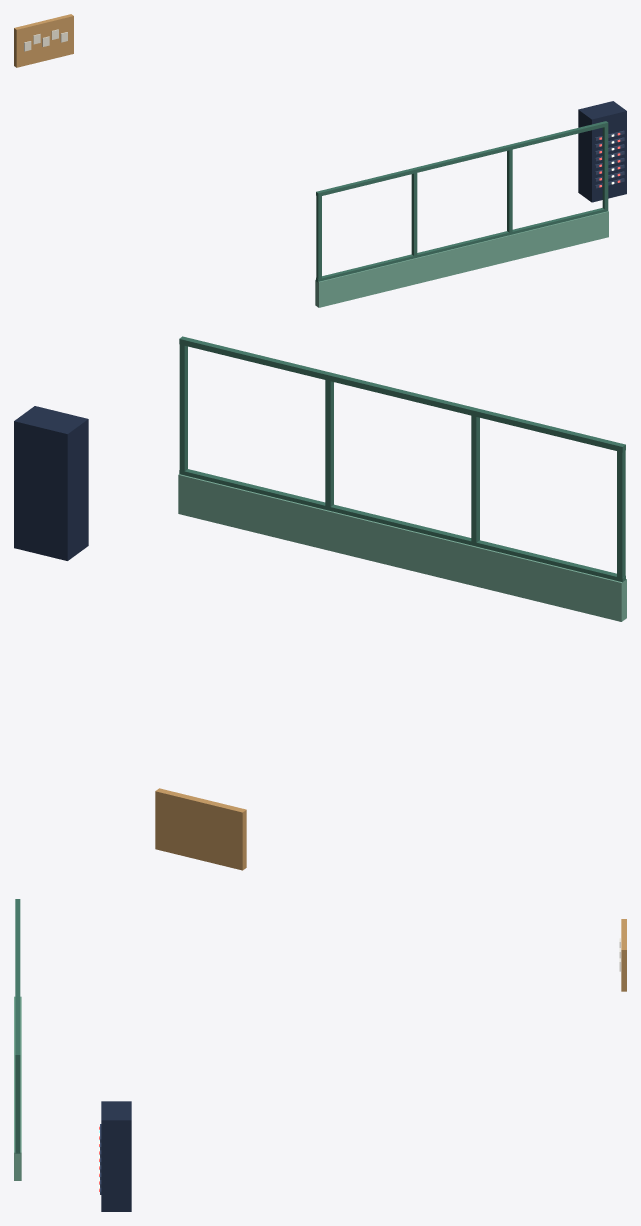
The model's file is newsroom.glb.
3 views of the same model, one above another, from view 1: azimuth 30°, elevation 25°; view 2: azimuth 150°, elevation 25°; view 3: azimuth 270°, elevation 25° (orthographic). The views are drawn at different scales.
Parts seen in each view (by area): view 1: newsroom; view 2: newsroom; view 3: newsroom.
Boxes of the visible parts, x1,y1,x2,y2 form: newsroom: (14,14,626,307); newsroom: (14,336,626,870); newsroom: (14,899,626,1211).
Size of the model in its own units: 9.81 by 2.86 by 12.62.
